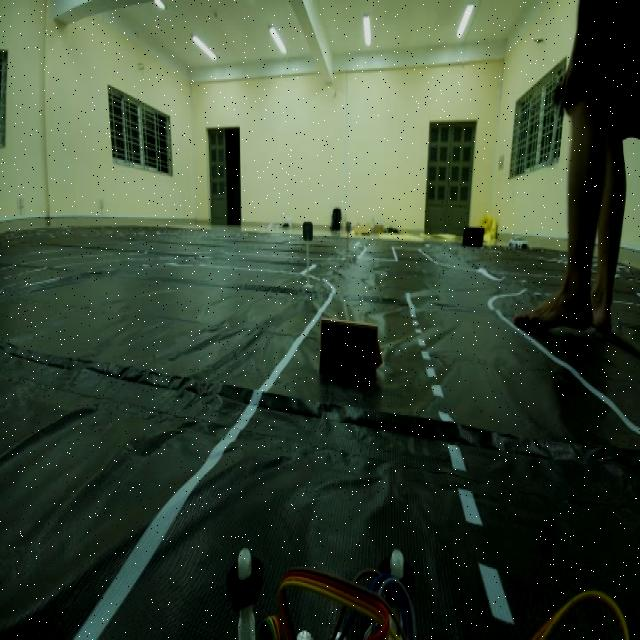roadblock: (312, 298, 389, 398)
